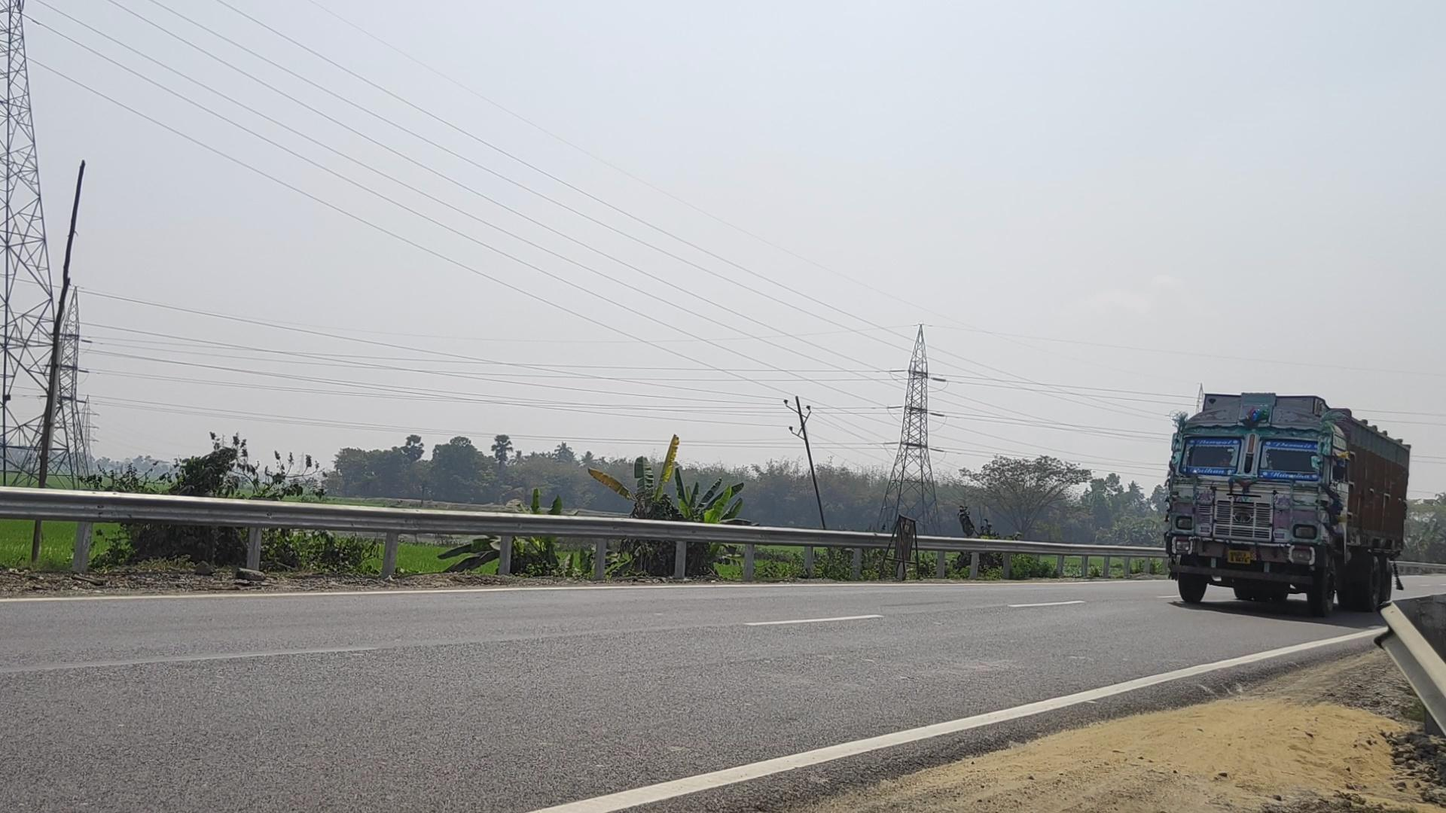truck: (1164, 391, 1411, 617)
